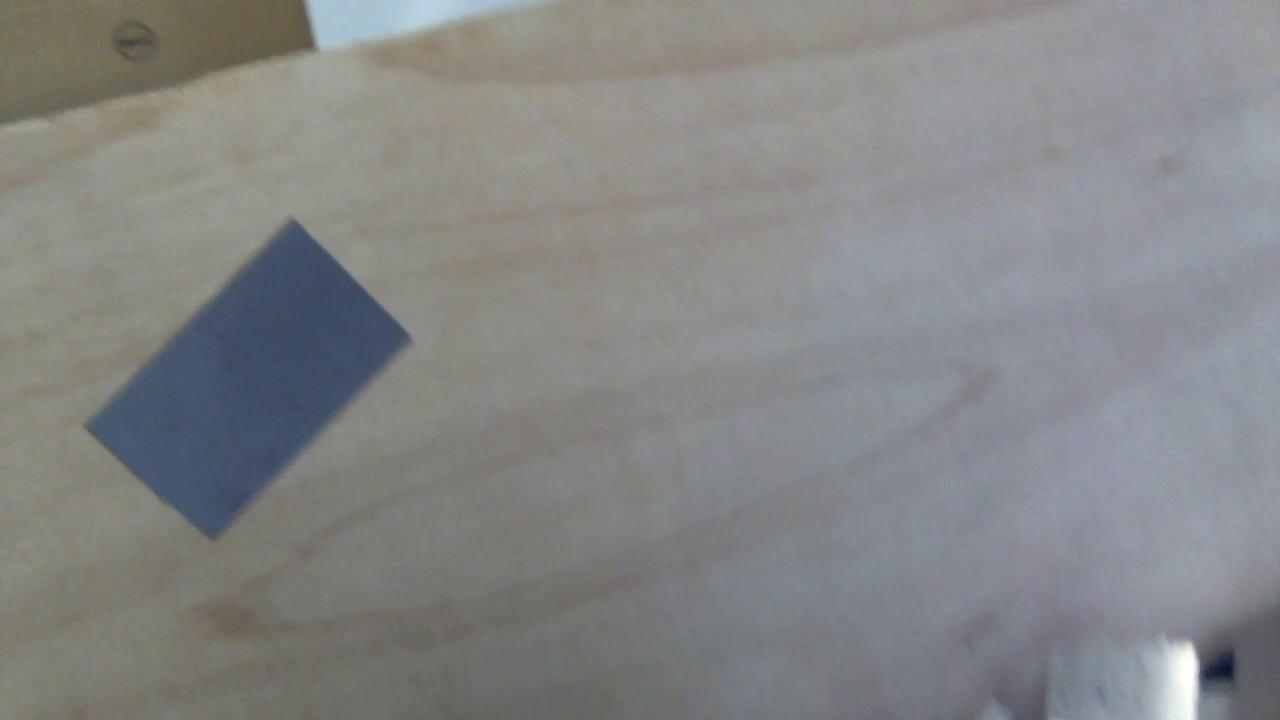Tape: (82, 218, 413, 544)
